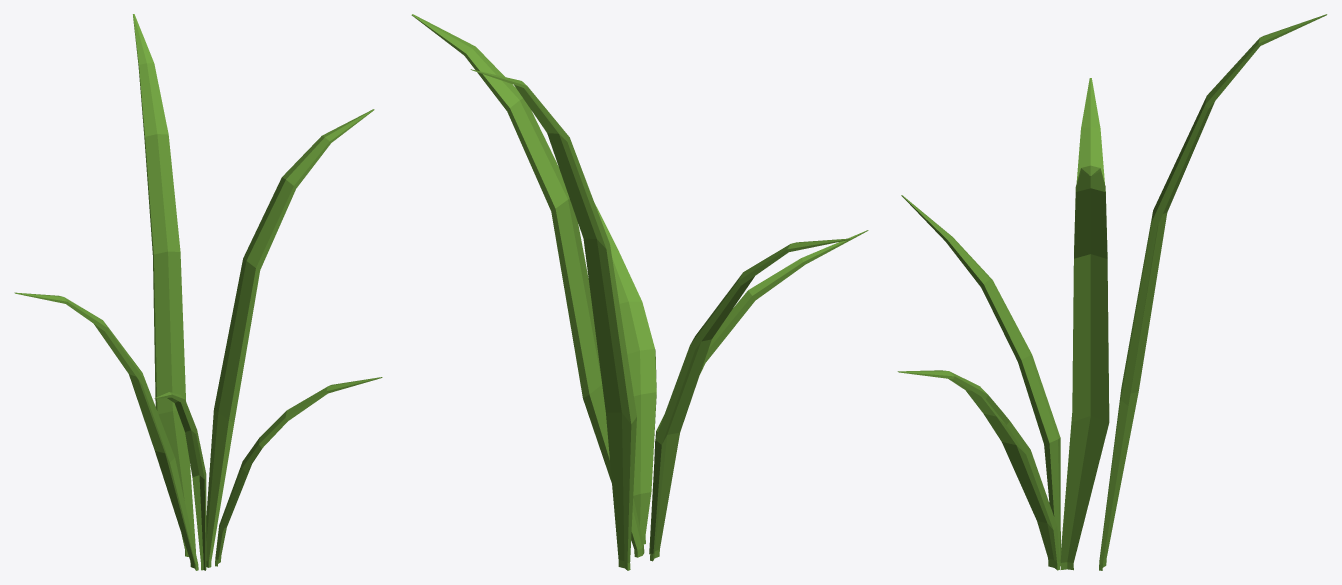
The model's file is Grass4.fbx.
The picture shows the model from 3 angles, left to right: view 1: azimuth 30°, elevation 25°; view 2: azimuth 150°, elevation 25°; view 3: azimuth 270°, elevation 25°; orthographic projection. The views are drawn at different scales.
Parts seen in each view (by area): view 1: Grass4; view 2: Grass4; view 3: Grass4.
Part boxes in pixels (box(x1,y1,x2,y2)): Grass4: box(14, 14, 382, 570); Grass4: box(411, 14, 868, 570); Grass4: box(897, 14, 1327, 570).
Size of the model in its own units: 100 by 124 by 84.25.
